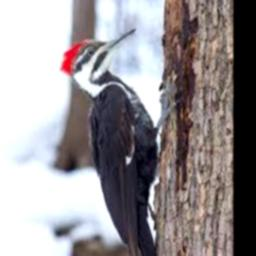Woodpecker: (60, 27, 179, 256)
